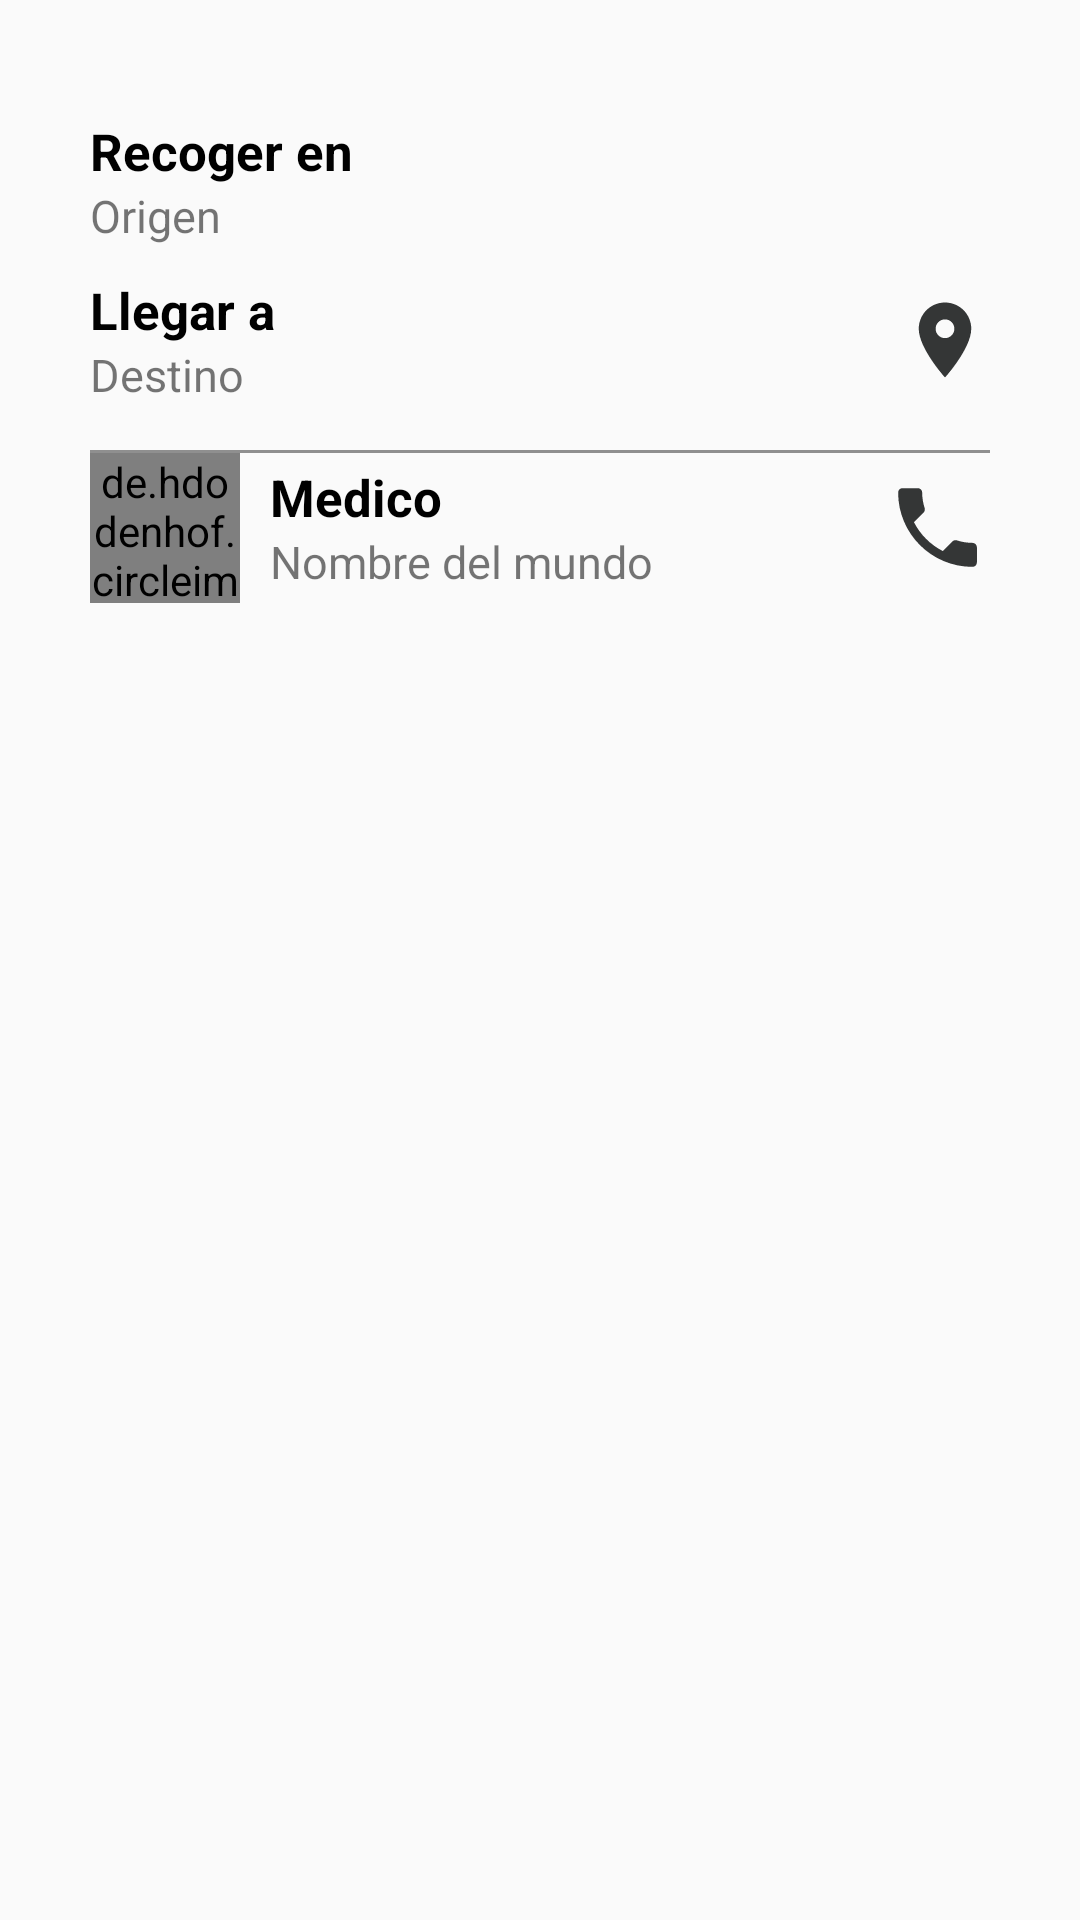

Screen size 1080×1920. Icon name, then its center in pixels as point (x, y):
location: point (945, 339)
phone: point (937, 527)
